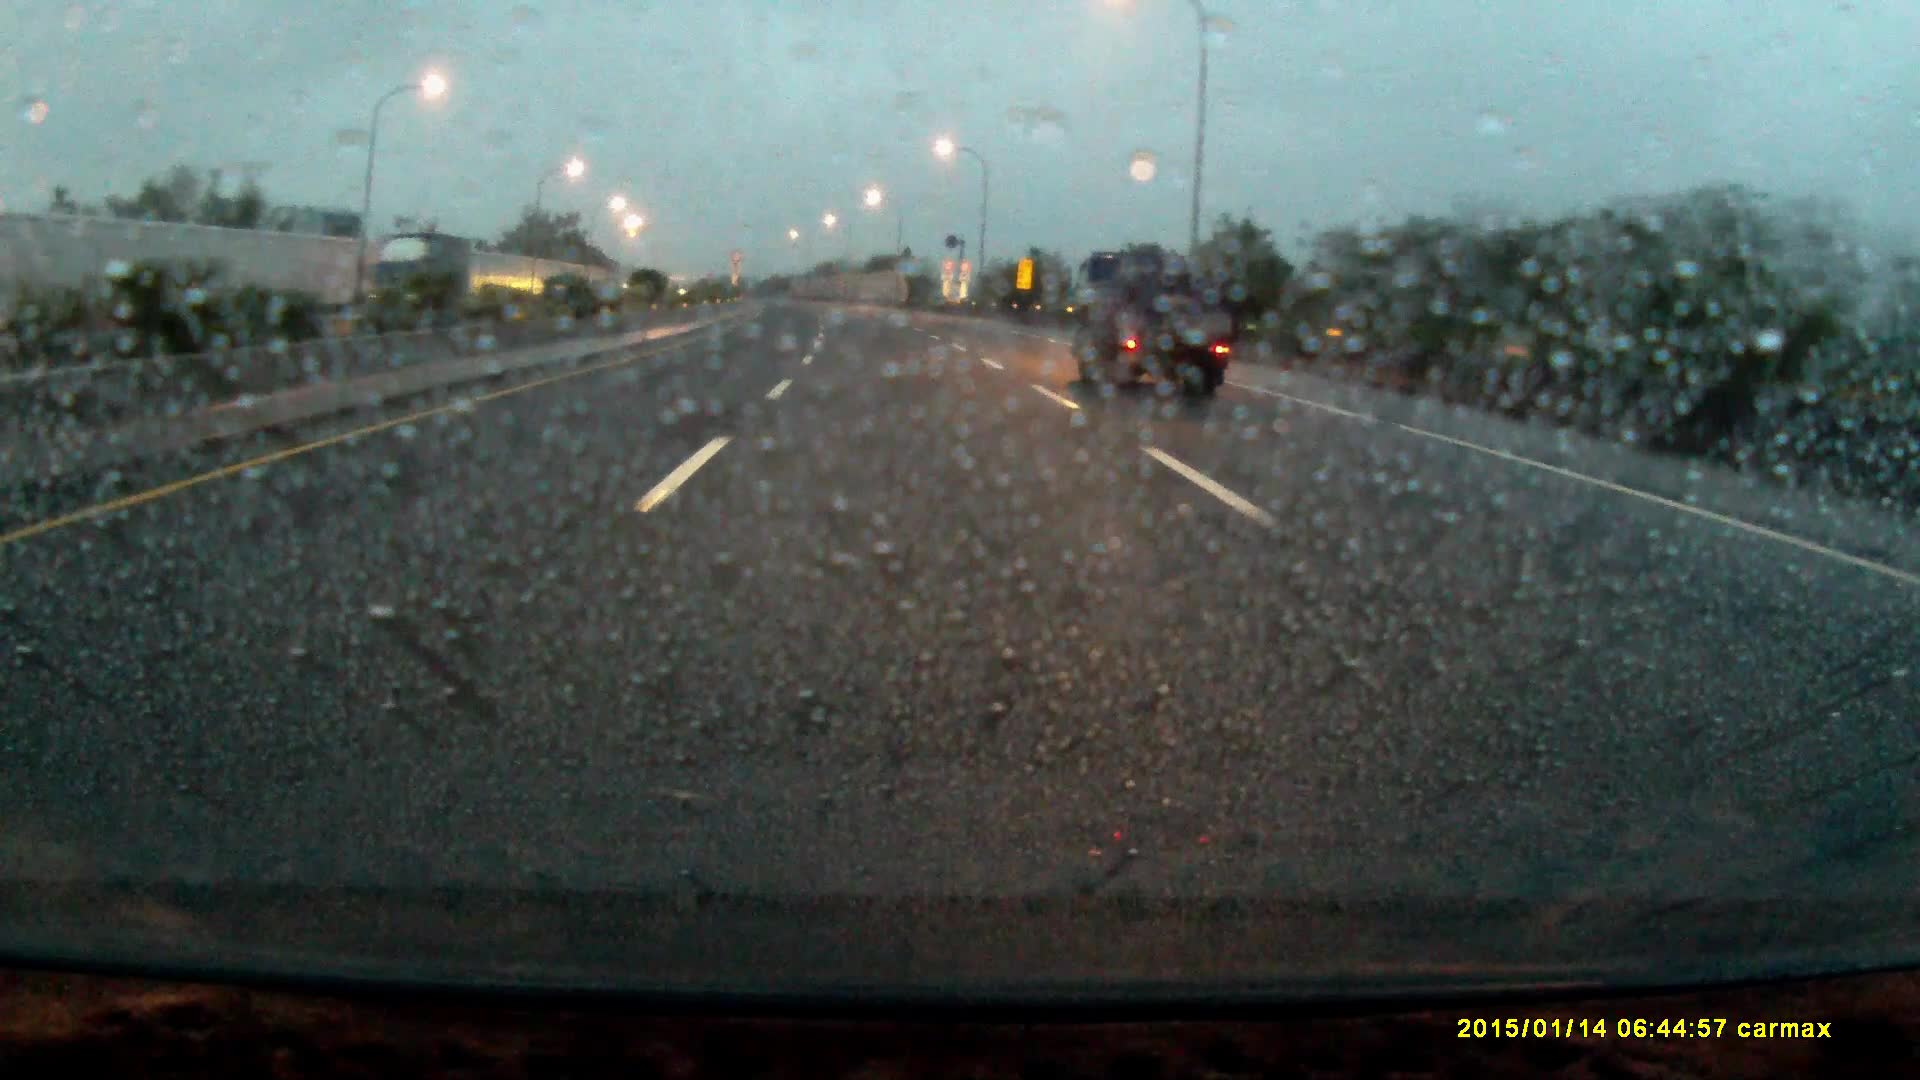vehicle: (1068, 249, 1225, 404), (367, 233, 473, 330)
